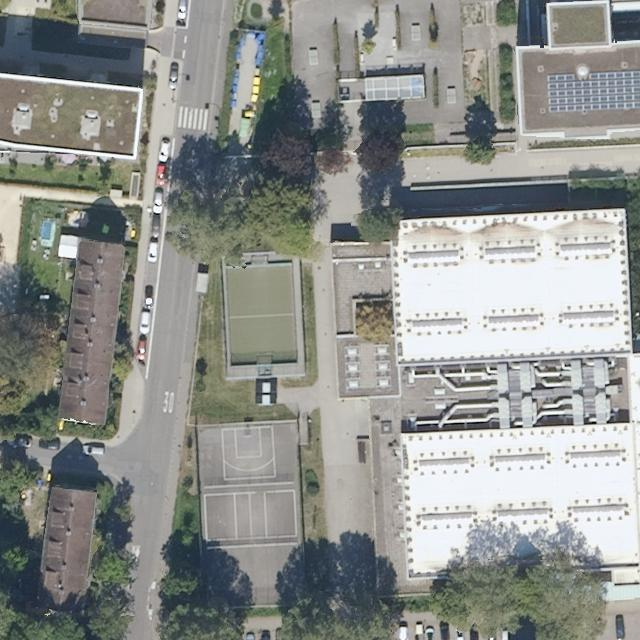PV: (541, 65, 639, 116)
